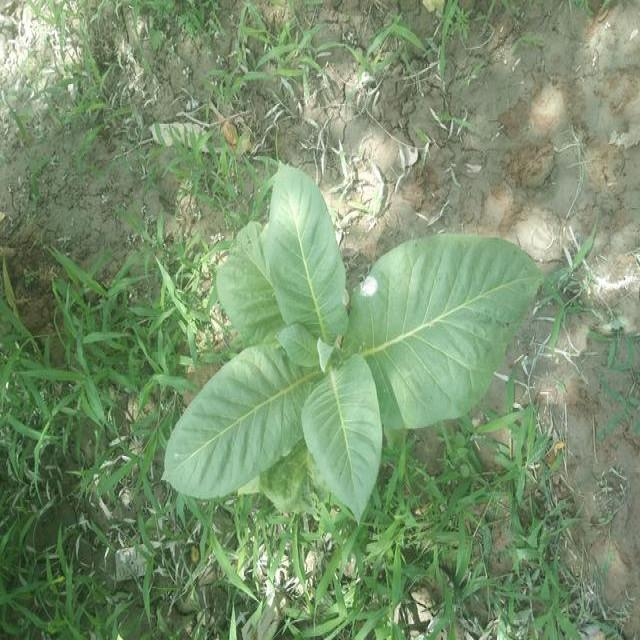crop: (160, 154, 542, 524)
